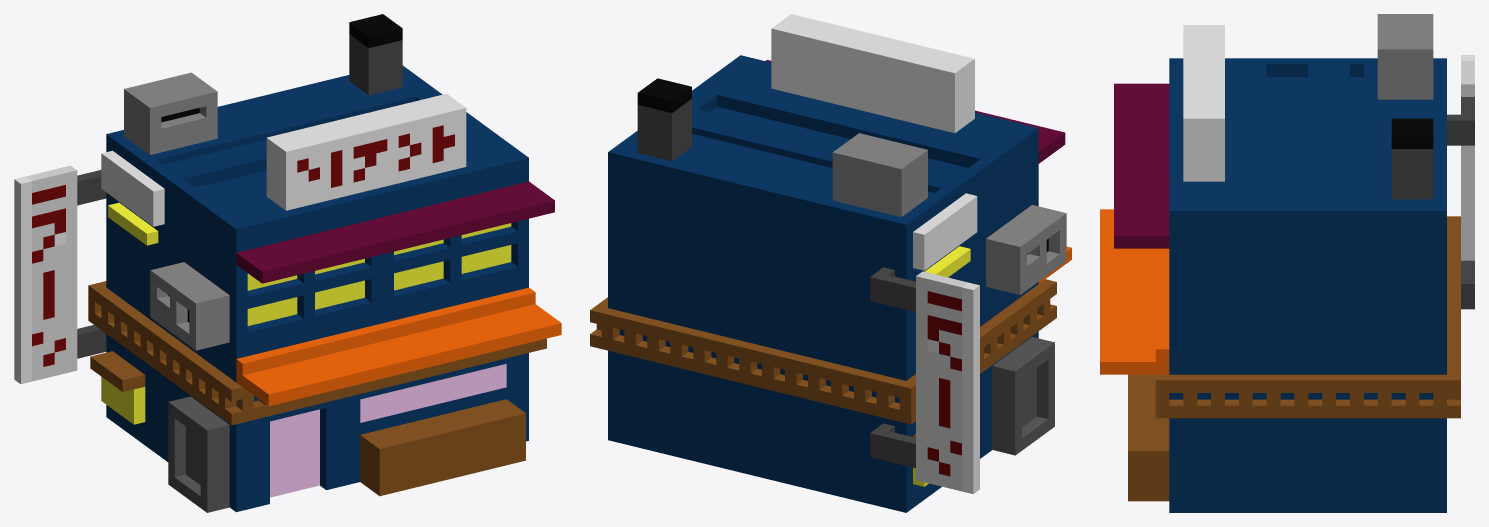
The model's file is edificio5.obj.
3 views of the same model, side by side, from view 1: azimuth 30°, elevation 25°; view 2: azimuth 150°, elevation 25°; view 3: azimuth 270°, elevation 25° (orthographic). The views are drawn at different scales.
Bounding box in the file's own units: 3.4 × 2.9 × 2.7.
1 material, 1 textured.
